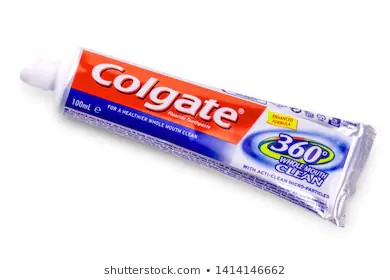colgate-small: (11, 44, 373, 227)
